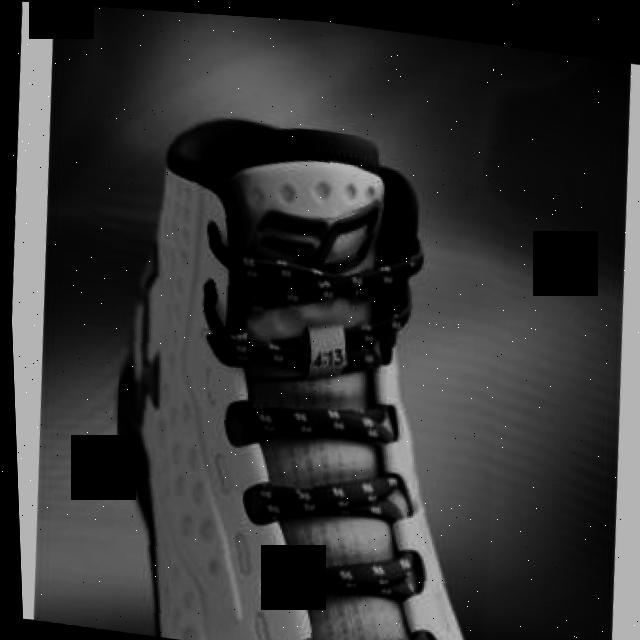shoe: (90, 101, 522, 640)
